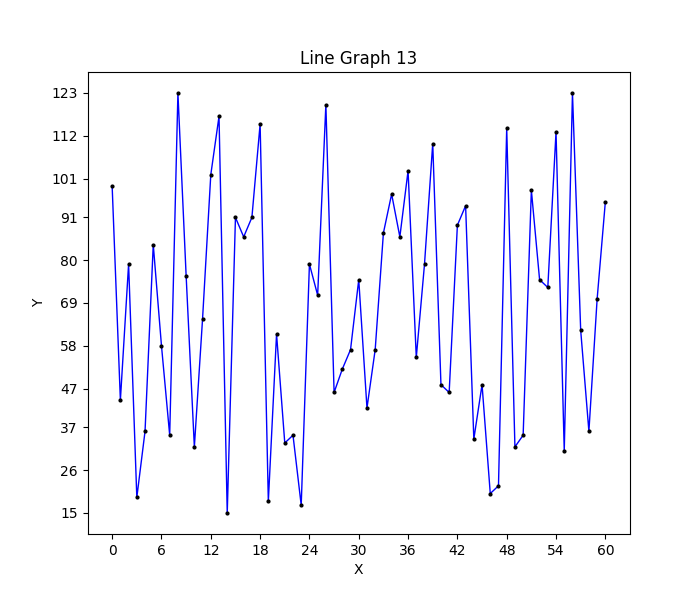cvs: (88, 72, 630, 534)
